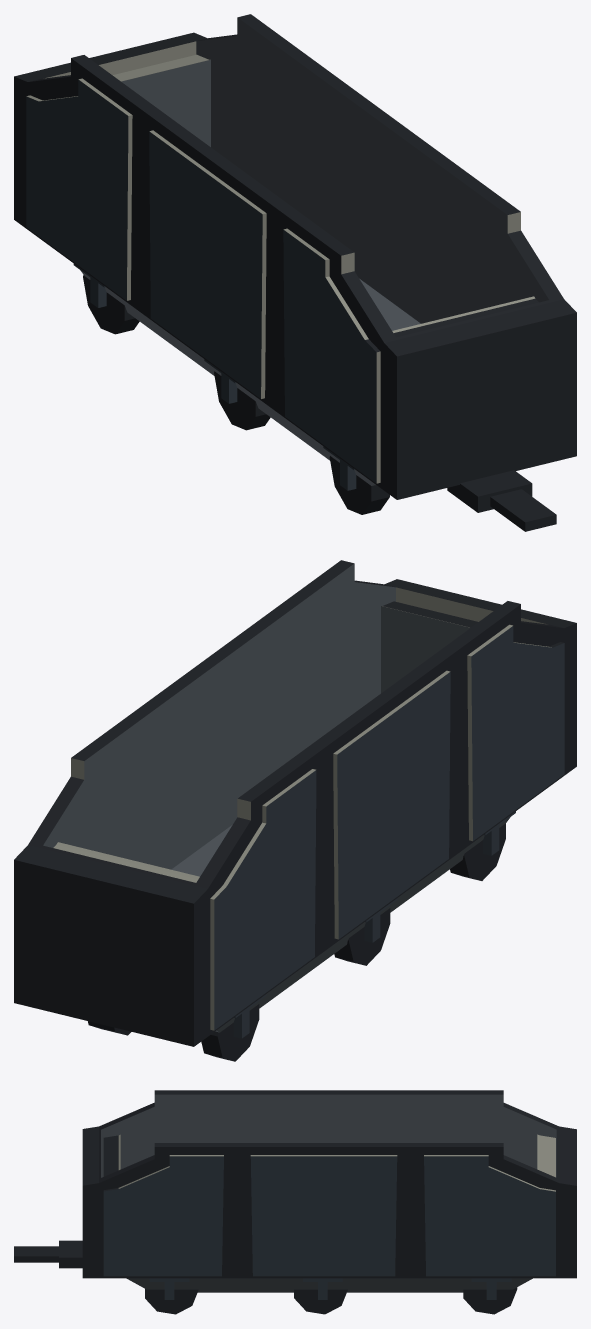
Rendered from wagon.fbx.
3 renders of one model, top to bottom at view 1: azimuth 30°, elevation 25°; view 2: azimuth 150°, elevation 25°; view 3: azimuth 270°, elevation 25°, orthographic. The views are drawn at different scales.
Parts seen in each view (by area): view 1: Cube.014; view 2: Cube.014; view 3: Cube.014.
Boxes of the visible parts, x1,y1,x2,y2 form: Cube.014: (14, 14, 576, 531); Cube.014: (14, 560, 576, 1061); Cube.014: (14, 1090, 576, 1314).
Size of the model in its own units: 223 by 307 by 897.
